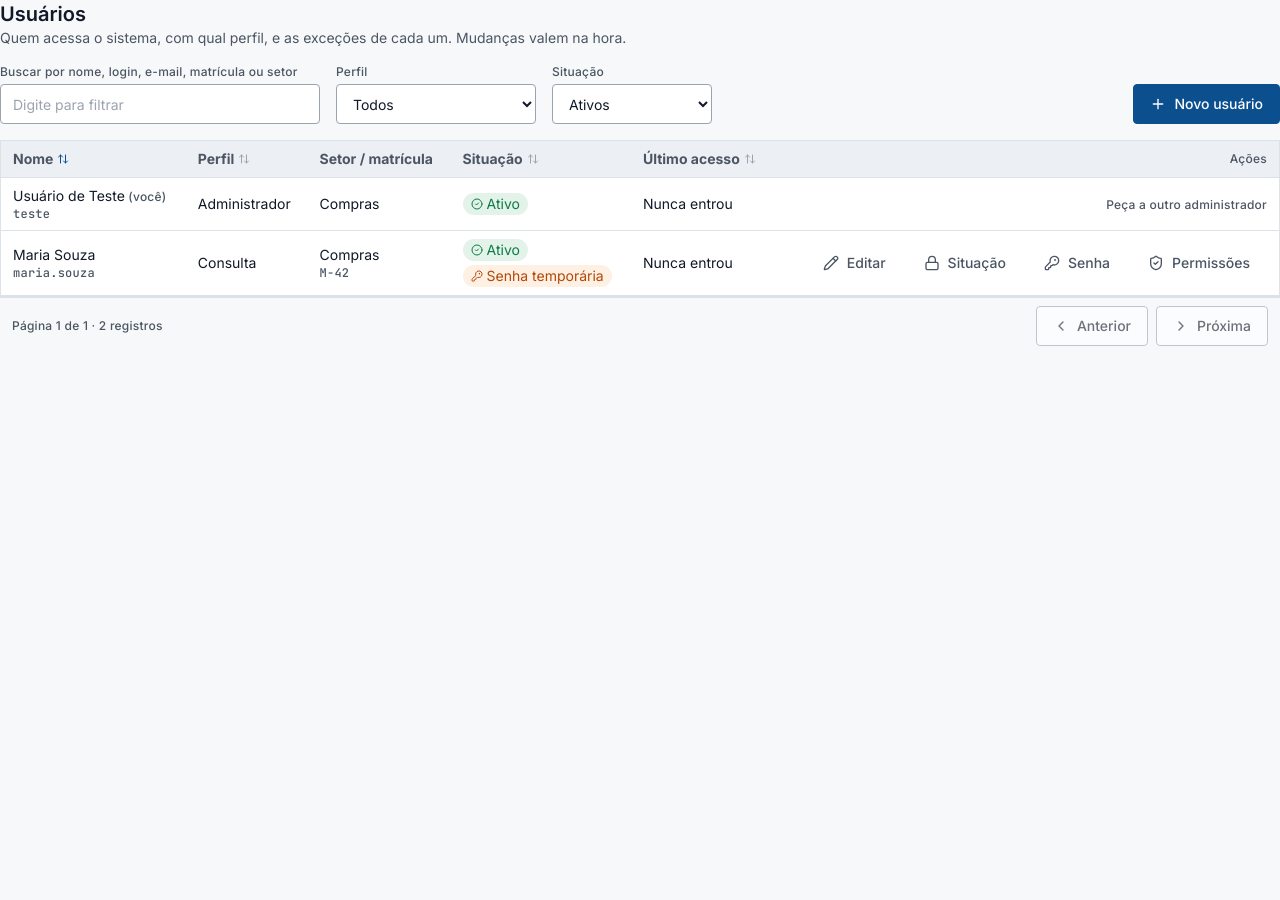
Usuarios › concede permissao individual com justificativa
Click the button with aria-label "Permissões de Maria Souza": (1199, 263) [1131,243,1267,283]
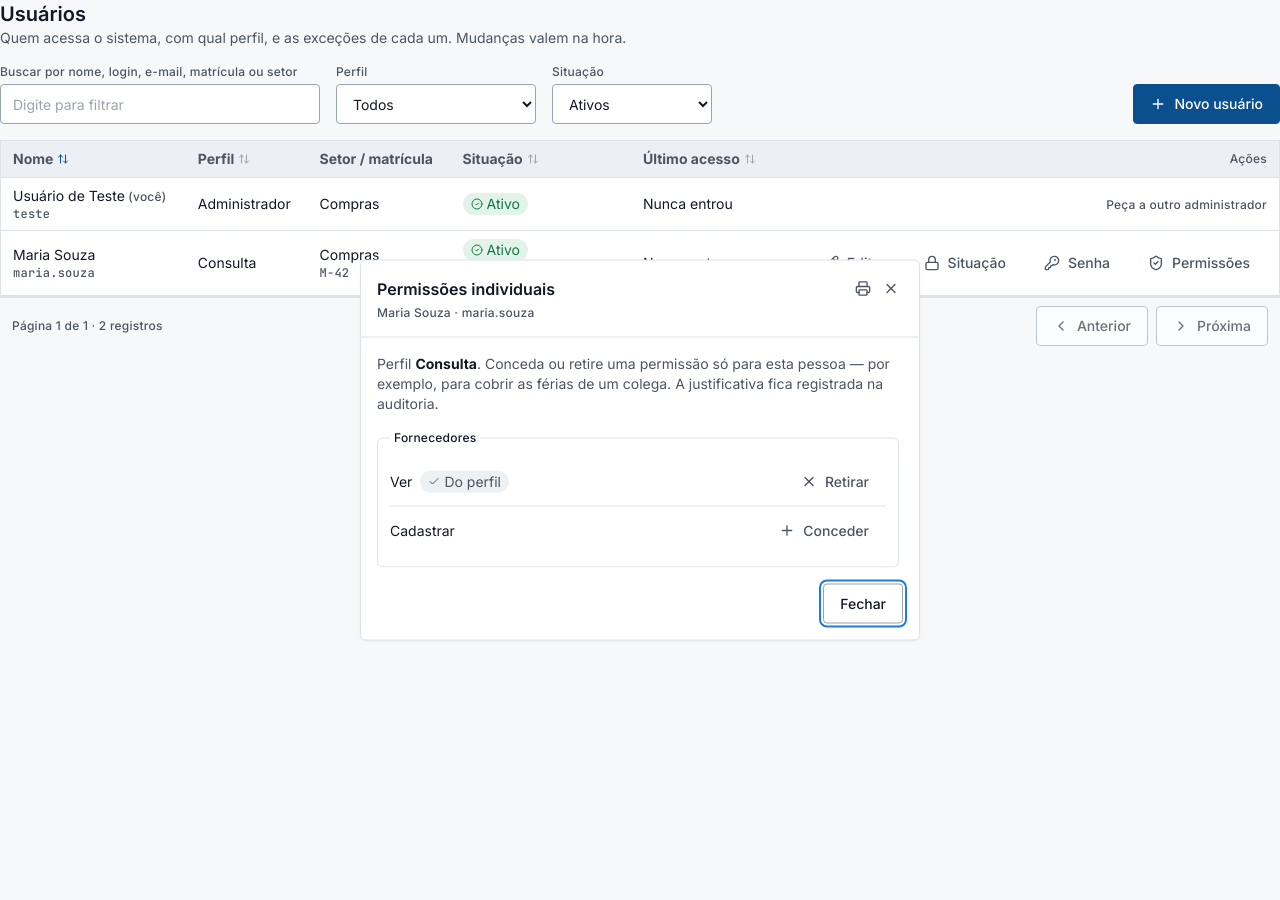
expect the text "Do perfil" is shown: met, box [420,470,509,492]
Click the button with aria-label "Conceder: Cadastrar": (824, 530) [762,510,886,550]
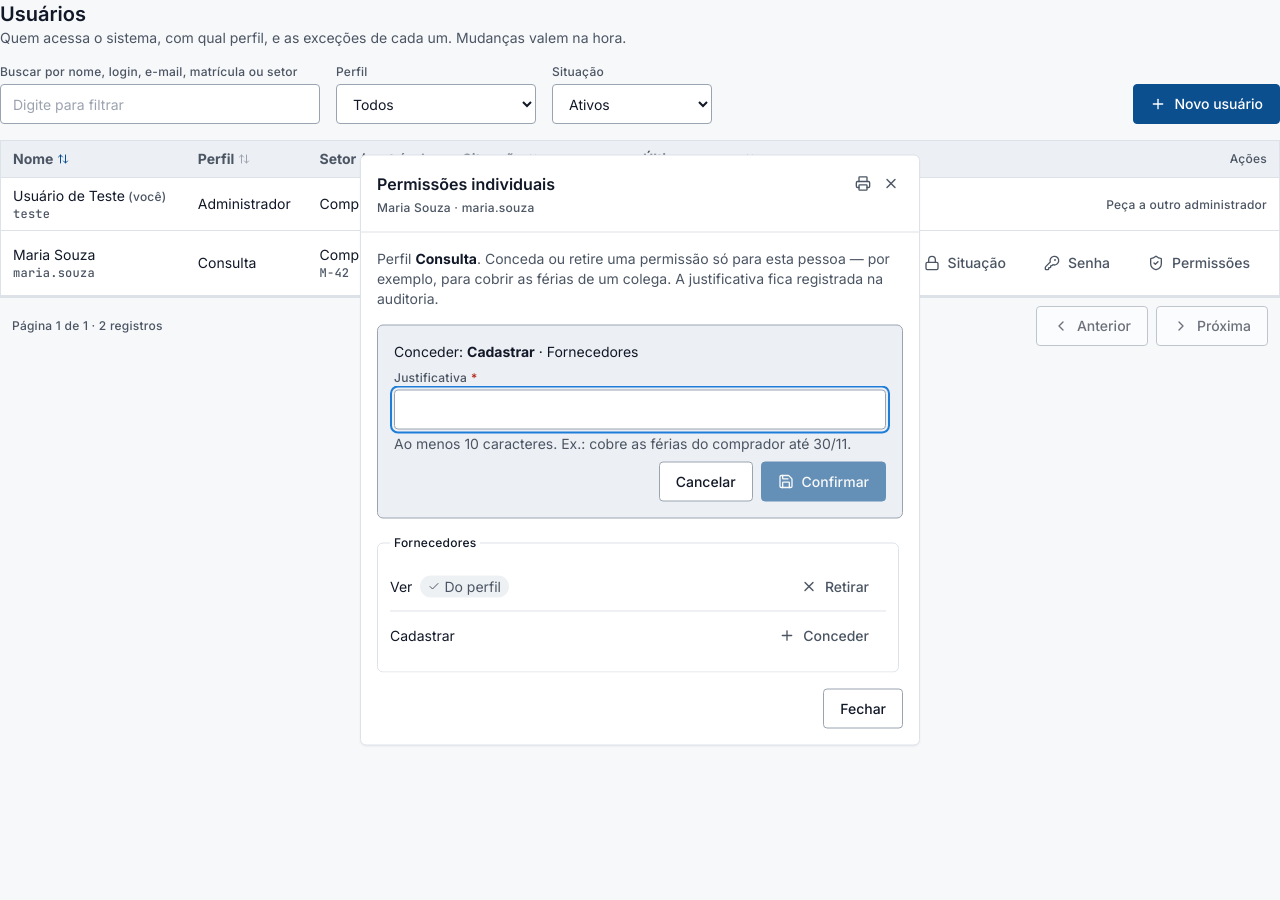
expect the button "Confirmar" is disabled: met, box [761,462,886,502]
In the field labelled "Justificativa*": (640, 410) [394,390,886,430], type "cobre as ferias do comprador"
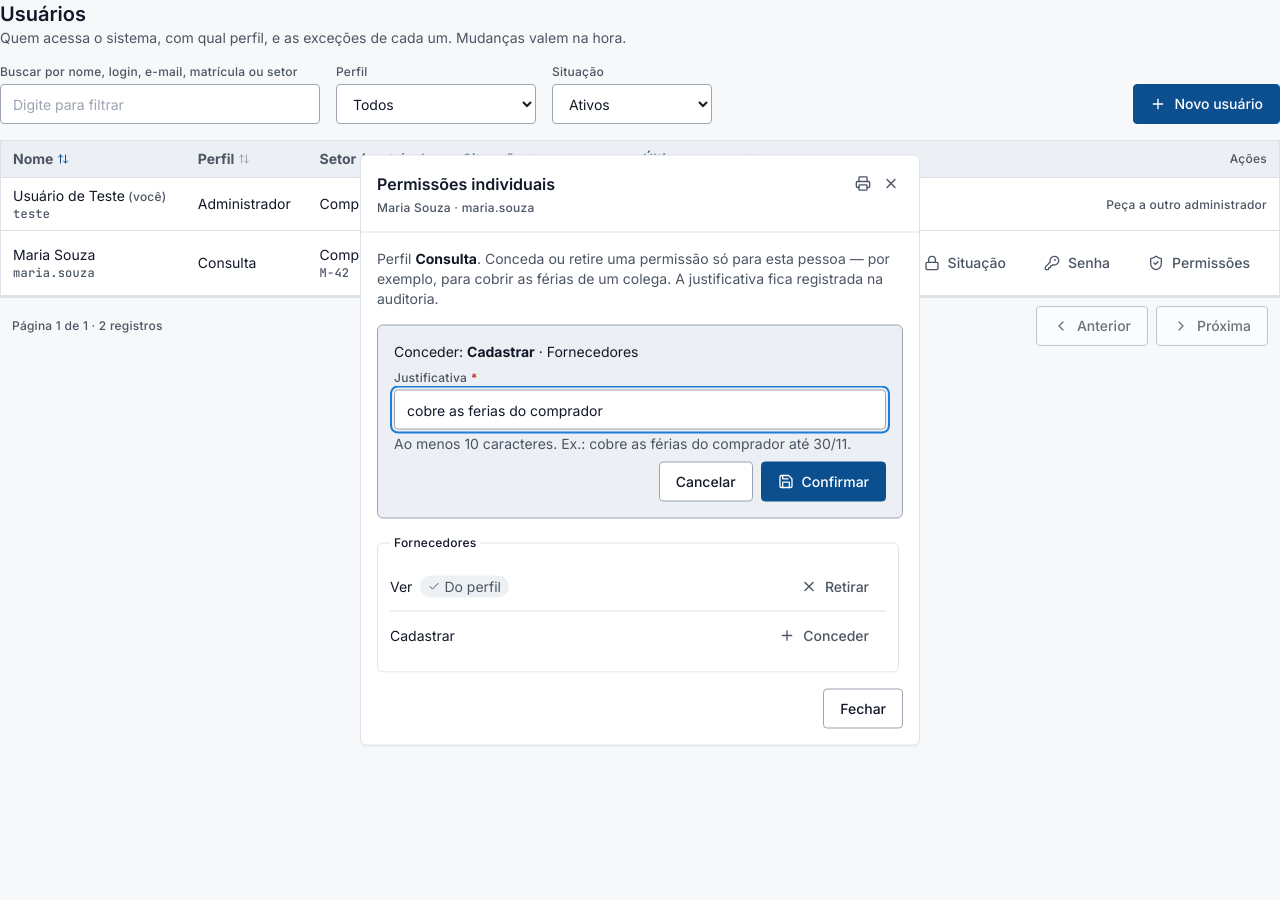
Click the button "Confirmar": (823, 482) [761,462,886,502]
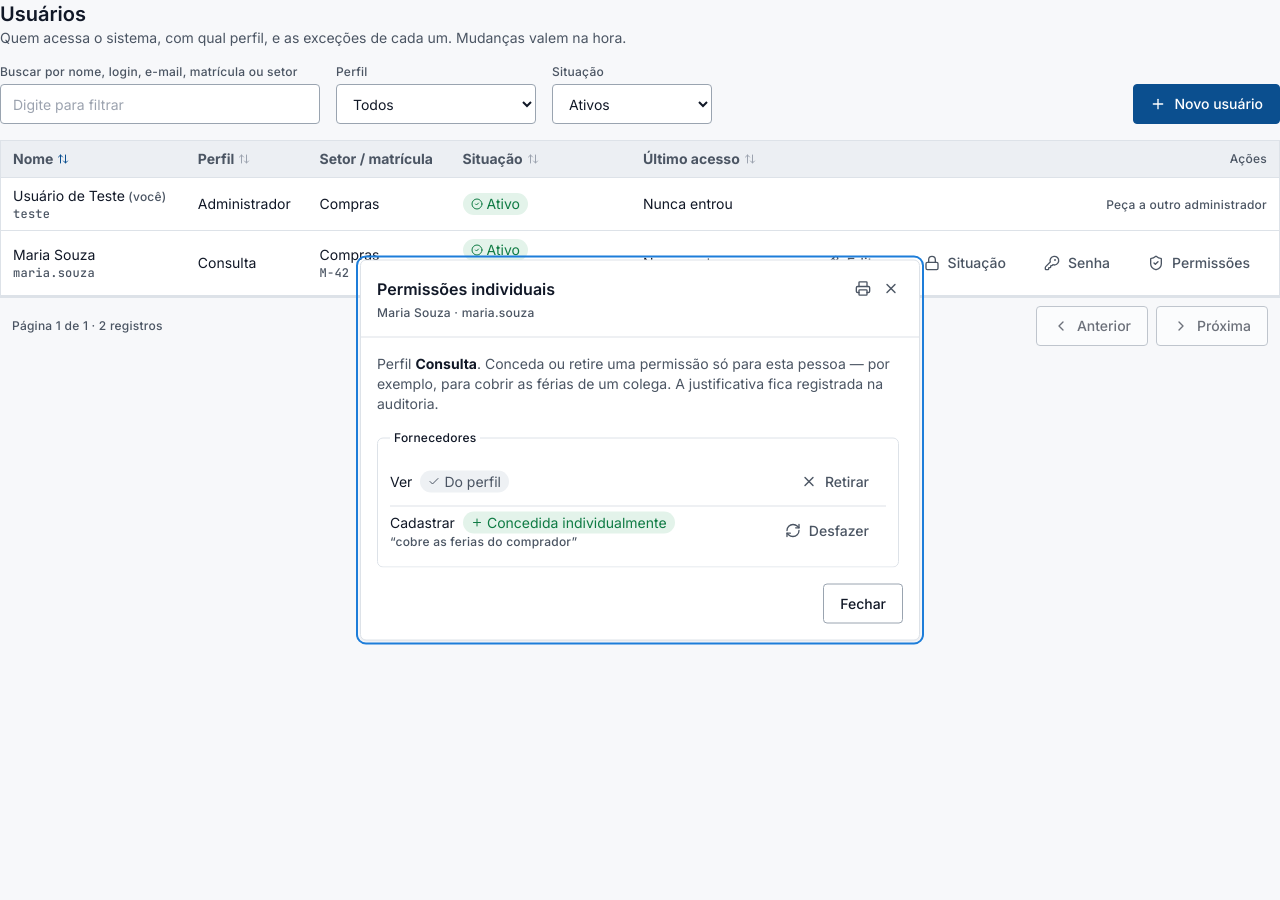
expect the text "Concedida individualmente" is shown: met, box [463,512,675,534]
